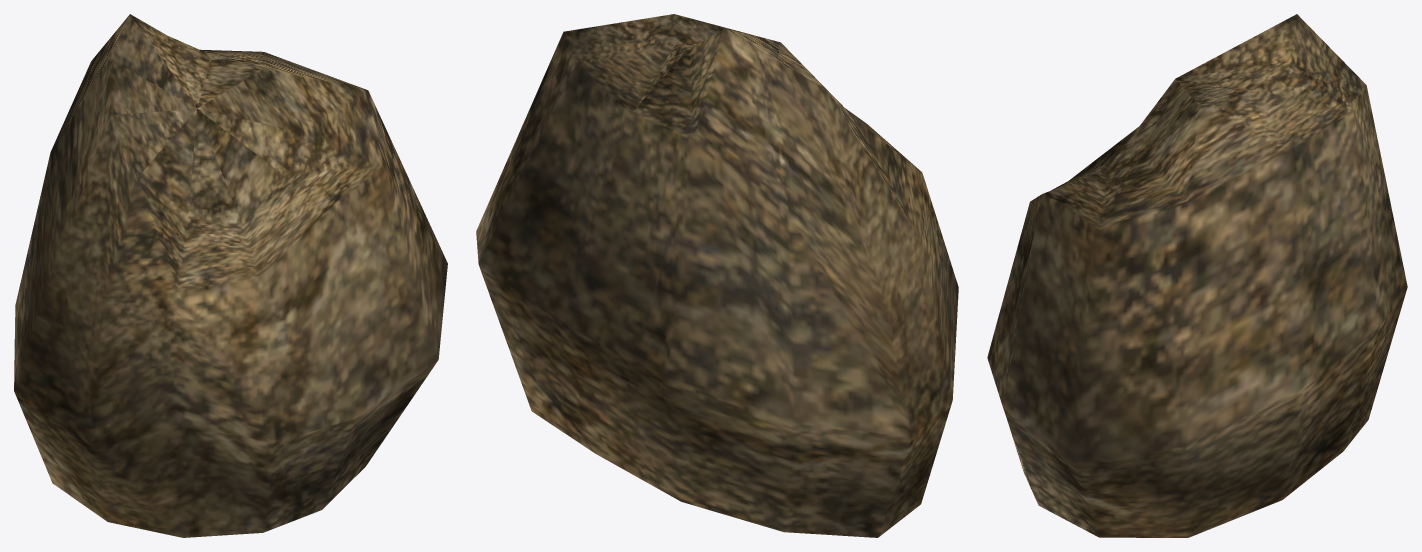
File: CH09_SMAUG_PLAYSURFACE_LONELYMOUNTAIN_LM_PLAYSURFACE16.fbx
3 views of the same model, side by side, from view 1: azimuth 30°, elevation 25°; view 2: azimuth 150°, elevation 25°; view 3: azimuth 270°, elevation 25° (orthographic). The views are drawn at different scales.
Visible parts, largest first — view 1: CH09_SMAUG_PLAYSURFACE_LONELYMOUNTAIN_LM_PLAYSURFACE16; view 2: CH09_SMAUG_PLAYSURFACE_LONELYMOUNTAIN_LM_PLAYSURFACE16; view 3: CH09_SMAUG_PLAYSURFACE_LONELYMOUNTAIN_LM_PLAYSURFACE16.
Boxes of the visible parts, <box> form: CH09_SMAUG_PLAYSURFACE_LONELYMOUNTAIN_LM_PLAYSURFACE16: <box>14,14,447,537</box>; CH09_SMAUG_PLAYSURFACE_LONELYMOUNTAIN_LM_PLAYSURFACE16: <box>476,14,958,537</box>; CH09_SMAUG_PLAYSURFACE_LONELYMOUNTAIN_LM_PLAYSURFACE16: <box>987,14,1407,537</box>.
Bounding box in the file's own units: 48401 × 49840 × 41047.
Materials: 1 (1 with a texture image).
